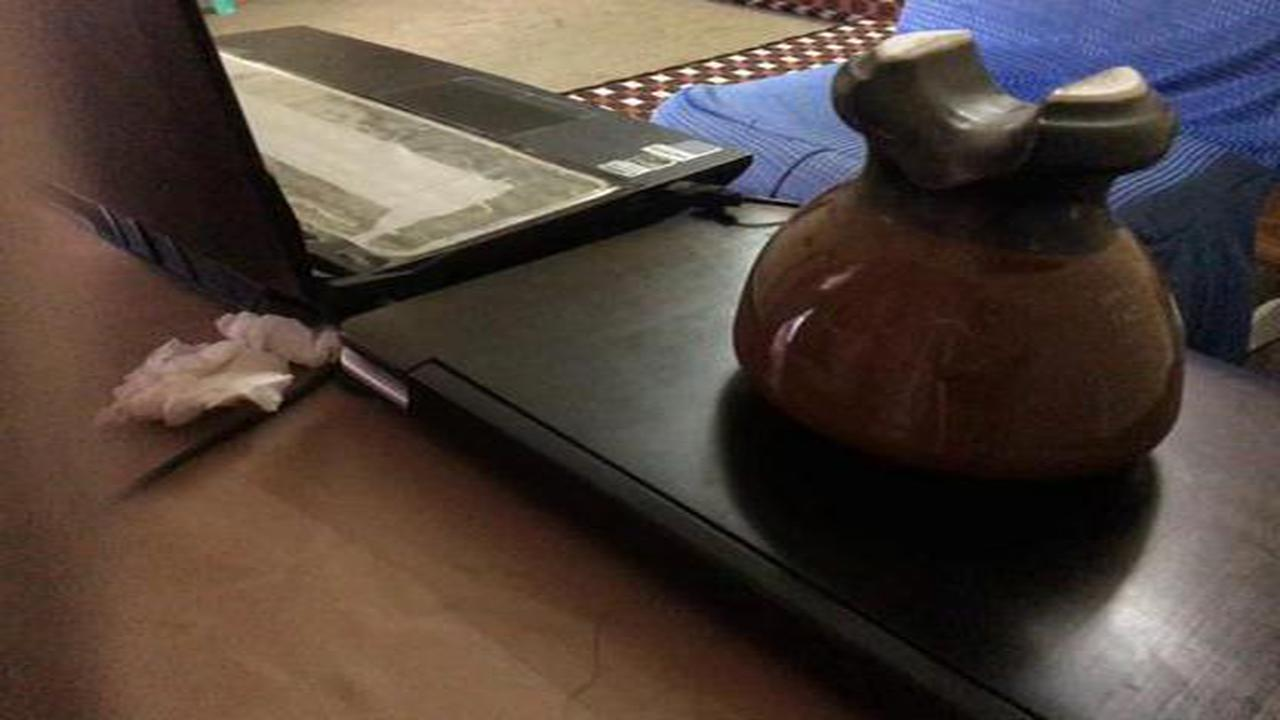insulator_pin: (699, 9, 1219, 516)
